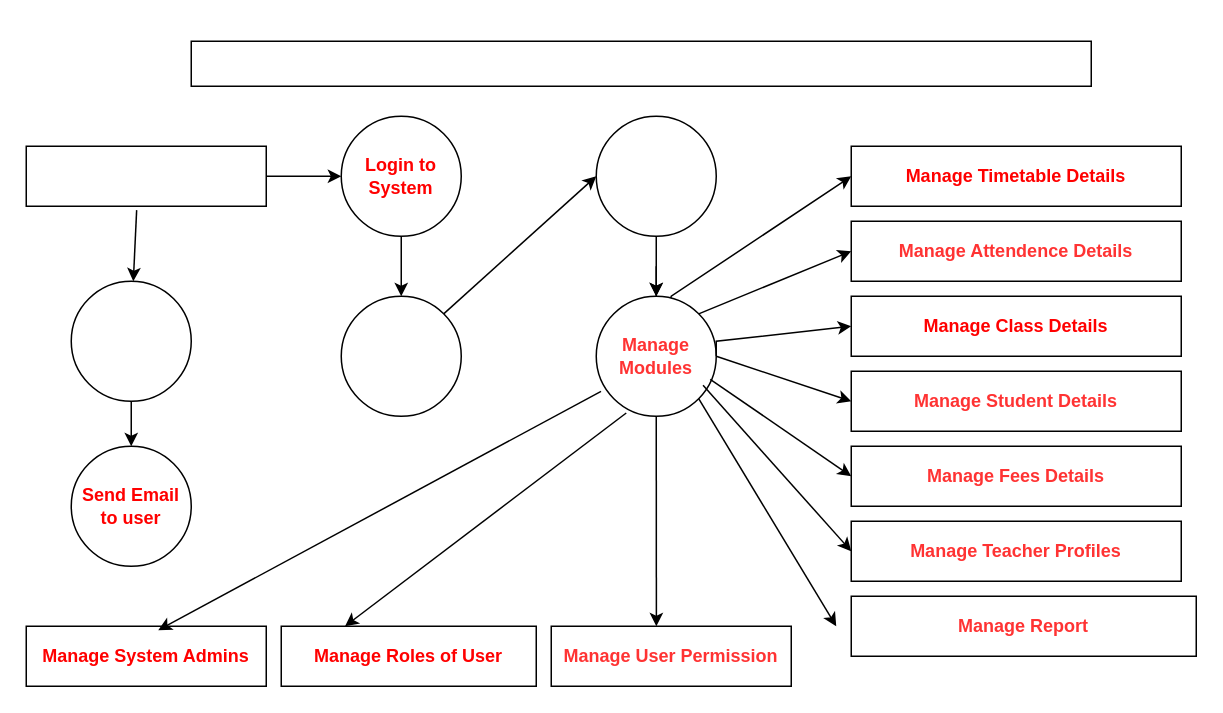
Image size: 1223x713. Some labels were removed from this diagram. Each missing label, with the centre of its shape:
"Admin" goes at point 145,175.
"Check Credentials" goes at point 400,355.
"Check Roles of Access" goes at point 655,175.
"Forgot Password" goes at point 130,340.
"Student Registration System" goes at point 640,63.
